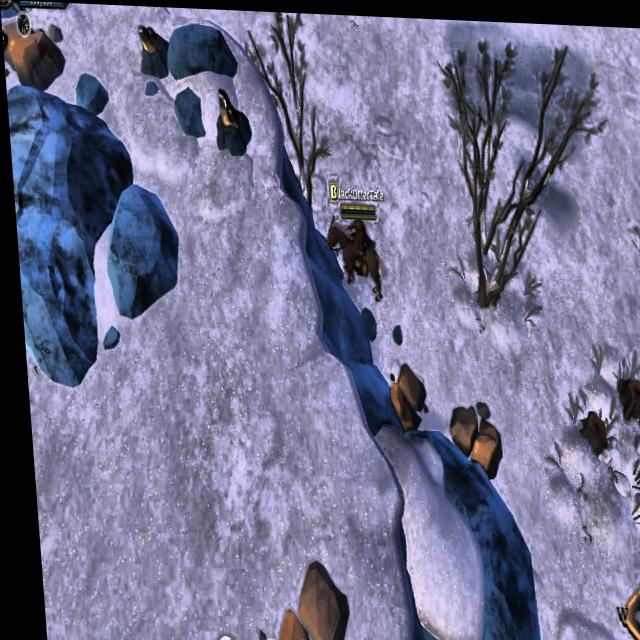copperore: (206, 82, 252, 159), (134, 22, 173, 81)
limestone: (261, 546, 342, 640), (439, 394, 500, 476), (1, 19, 67, 87), (379, 354, 426, 434)
